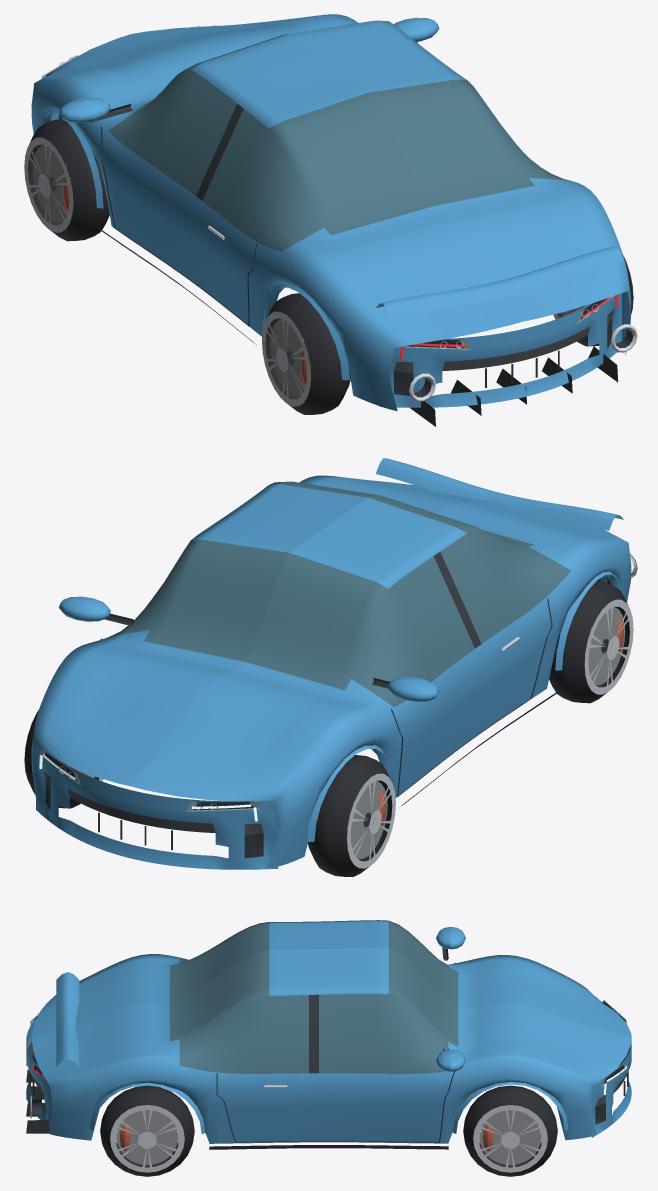
The model's file is falcon_s1_low.glb.
The picture shows the model from 3 angles, top to bottom: view 1: azimuth 30°, elevation 25°; view 2: azimuth 150°, elevation 25°; view 3: azimuth 270°, elevation 25°; orthographic projection. The views are drawn at different scales.
Visible parts, largest first — view 1: Body, Wheel_2, Wheel_0; view 2: Body, Wheel_0, Wheel_2, Wheel_1; view 3: Body, Wheel_1, Wheel_3.
Part boxes in pixels (left/top/right/bottom): Body: left=31, top=14, right=637, bottom=426; Wheel_2: left=262, top=293, right=350, bottom=414; Wheel_0: left=24, top=119, right=109, bottom=241; Body: left=31, top=458, right=637, bottom=869; Wheel_0: left=307, top=755, right=395, bottom=876; Wheel_2: left=549, top=581, right=633, bottom=703; Wheel_1: left=24, top=709, right=103, bottom=808; Body: left=26, top=920, right=631, bottom=1150; Wheel_1: left=463, top=1085, right=557, bottom=1176; Wheel_3: left=100, top=1085, right=194, bottom=1176.
Bounding box in the file's own units: 2.32 × 1.34 × 4.39.
